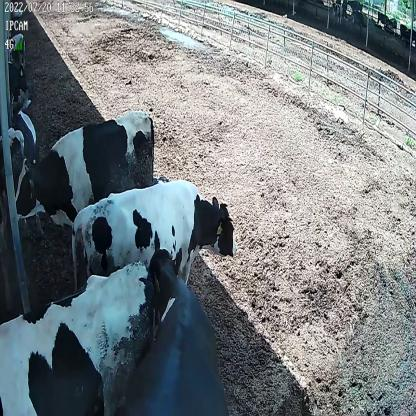cow: (73, 178, 239, 302), (125, 247, 227, 416), (15, 107, 156, 229)
